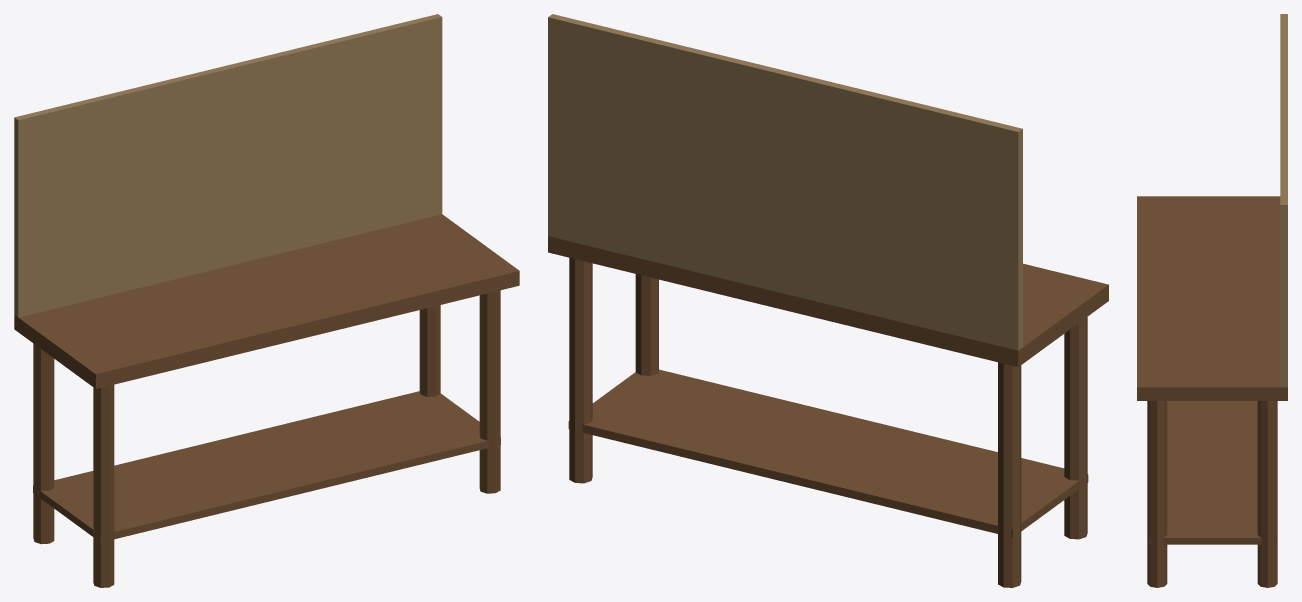
The model's file is garage workbench.glb.
3 views of the same model, side by side, from view 1: azimuth 30°, elevation 25°; view 2: azimuth 150°, elevation 25°; view 3: azimuth 270°, elevation 25° (orthographic). The views are drawn at different scales.
Parts seen in each view (by area): view 1: garage workbench; view 2: garage workbench; view 3: garage workbench.
Boxes of the visible parts, x1,y1,x2,y2 form: garage workbench: (14,14,519,587); garage workbench: (548,14,1108,587); garage workbench: (1137,14,1287,587).
Size of the model in its own units: 1.8 by 1.7 by 0.6.
